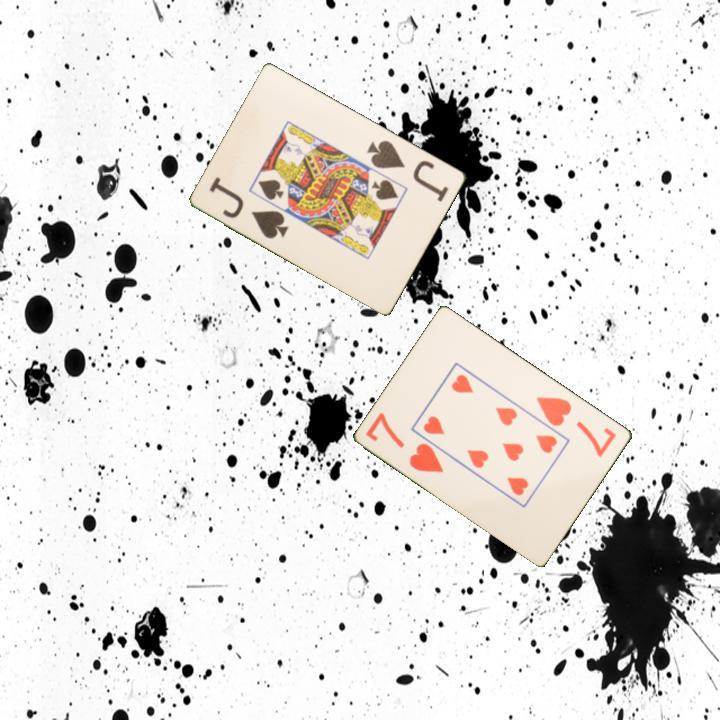7h: (533, 393, 620, 460), (362, 409, 447, 476)
Js: (363, 136, 452, 205), (206, 173, 292, 242)
